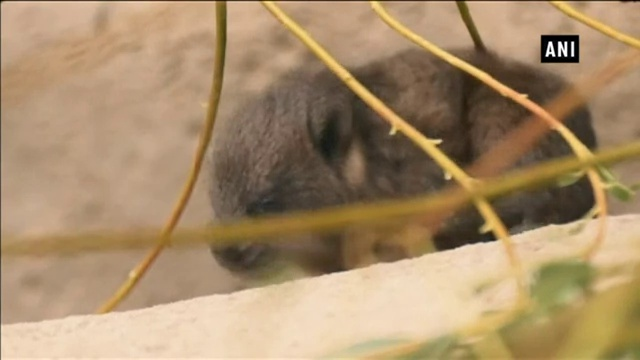Rock Hyrex: (198, 49, 597, 277)
